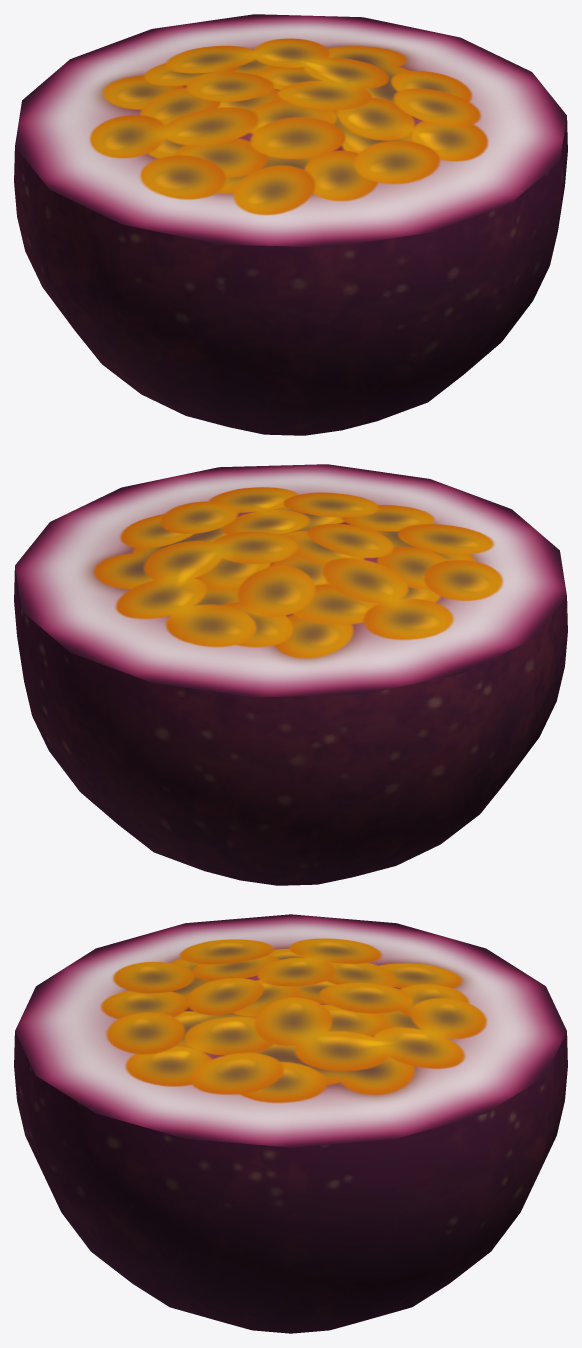
File: PassionFruit_Purple_Half.fbx
3 renders of one model, top to bottom at view 1: azimuth 30°, elevation 25°; view 2: azimuth 150°, elevation 25°; view 3: azimuth 270°, elevation 25°, orthographic.
Parts seen in each view (by area): view 1: PassionFruit_Purple_Half; view 2: PassionFruit_Purple_Half; view 3: PassionFruit_Purple_Half.
Boxes of the visible parts, bbox=[...] form: PassionFruit_Purple_Half: bbox=[14, 14, 567, 435]; PassionFruit_Purple_Half: bbox=[14, 464, 567, 885]; PassionFruit_Purple_Half: bbox=[14, 914, 567, 1333].
Size of the model in its own units: 33.06 by 20.49 by 33.06.
